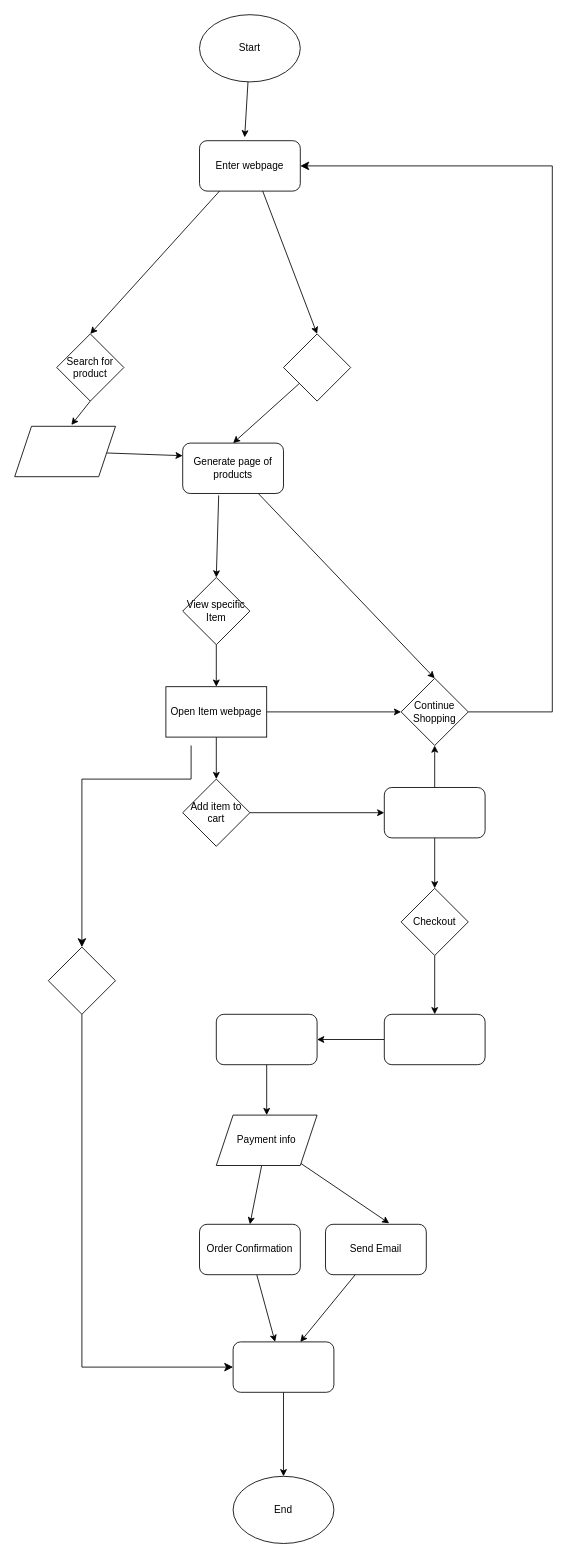
The diagram is 575 pixels wide and 1558 high, and some of its shapes have lost their labels. The centre of each missing label's shape, as x and y in pixels:
"Added to cart confirmation" belongs at (434,812).
"Enter Product description" belongs at (65,451).
"Explore on home" belongs at (317,367).
"Generate View Cart" belongs at (434,1039).
"Generate View Payment" belongs at (266,1039).
"Leave Webpage" belongs at (81,980).
"Leave Website" belongs at (283,1366).
